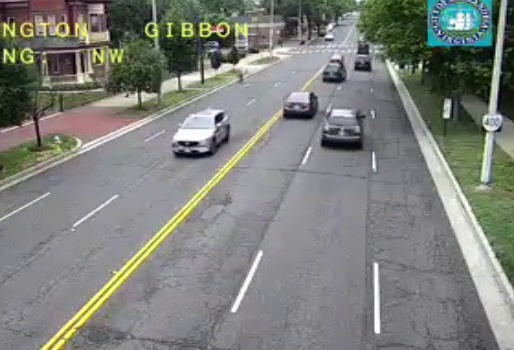car: (322, 109, 362, 142), (283, 93, 317, 117), (322, 64, 343, 80)
